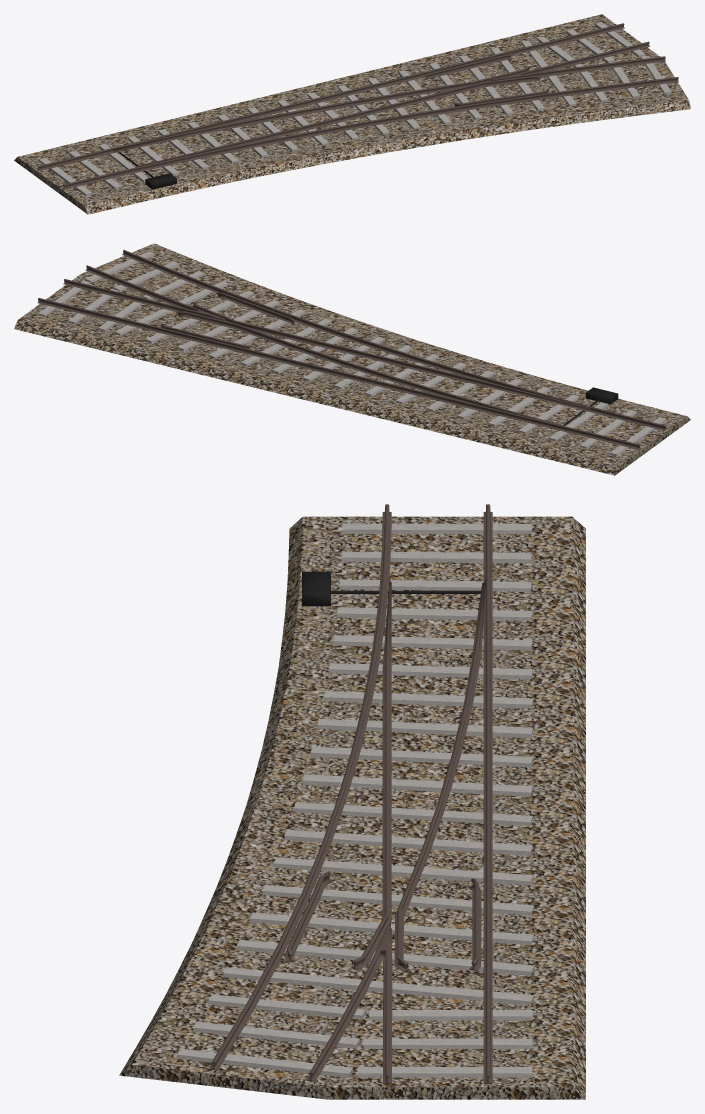
Rendered from sweethome3d-scopia-railroad-switch.glb.
The picture shows the model from 3 angles, top to bottom: view 1: azimuth 30°, elevation 25°; view 2: azimuth 150°, elevation 25°; view 3: azimuth 270°, elevation 25°; orthographic projection. The views are drawn at different scales.
Visible parts, largest first — view 1: ballasCurveAiguillage_Plane.012, aiguillageVoies_BezierCurve.004, traverse20m15degresaiguillage_Cube.012, triangle_Point.010, sweethome3d_opening_on_hinge_1_voie, contreRail2_BezierCurve.010, controleur_Cube.013, sweethome3d_opening_on_hinge_2_voie; view 2: ballasCurveAiguillage_Plane.012, aiguillageVoies_BezierCurve.004, traverse20m15degresaiguillage_Cube.012, triangle_Point.010, sweethome3d_opening_on_hinge_2_voie, contreRail1_Point.005, controleur_Cube.013; view 3: ballasCurveAiguillage_Plane.012, traverse20m15degresaiguillage_Cube.012, aiguillageVoies_BezierCurve.004, triangle_Point.010, controleur_Cube.013, contreRail1_Point.005, sweethome3d_opening_on_hinge_1_voie, contreRail2_BezierCurve.010.
Part boxes in pixels (x1,y1,x2,y2): ballasCurveAiguillage_Plane.012: [14, 14, 690, 214]; aiguillageVoies_BezierCurve.004: [37, 23, 678, 189]; traverse20m15degresaiguillage_Cube.012: [38, 22, 671, 195]; triangle_Point.010: [490, 41, 665, 80]; sweethome3d_opening_on_hinge_1_voie: [113, 123, 235, 152]; contreRail2_BezierCurve.010: [424, 54, 511, 79]; controleur_Cube.013: [119, 152, 176, 189]; sweethome3d_opening_on_hinge_2_voie: [135, 138, 252, 167]; ballasCurveAiguillage_Plane.012: [14, 243, 690, 475]; aiguillageVoies_BezierCurve.004: [37, 250, 666, 449]; traverse20m15degresaiguillage_Cube.012: [38, 251, 665, 456]; triangle_Point.010: [63, 265, 225, 320]; sweethome3d_opening_on_hinge_2_voie: [471, 378, 590, 411]; contreRail1_Point.005: [217, 292, 295, 324]; controleur_Cube.013: [563, 387, 618, 425]; ballasCurveAiguillage_Plane.012: [119, 516, 585, 1099]; traverse20m15degresaiguillage_Cube.012: [176, 523, 534, 1077]; aiguillageVoies_BezierCurve.004: [209, 504, 492, 1083]; triangle_Point.010: [306, 922, 392, 1083]; controleur_Cube.013: [302, 571, 480, 606]; contreRail1_Point.005: [284, 871, 332, 961]; sweethome3d_opening_on_hinge_1_voie: [465, 576, 485, 698]; contreRail2_BezierCurve.010: [469, 878, 481, 971].
Bounding box in the file's own units: 2007 × 39.86 × 693.
5 materials, 2 textured.
